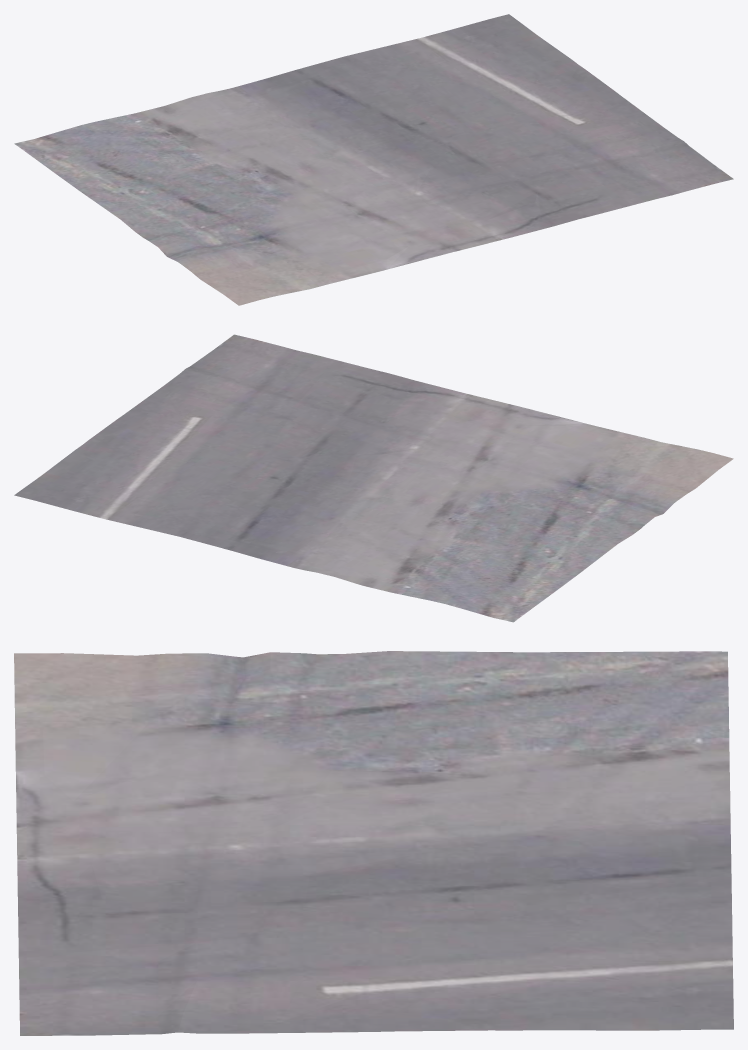
Rendered from Tile_+006_+007_L22_0000010.glb.
The picture shows the model from 3 angles, top to bottom: view 1: azimuth 30°, elevation 25°; view 2: azimuth 150°, elevation 25°; view 3: azimuth 270°, elevation 25°; orthographic projection. The views are drawn at different scales.
Visible parts, largest first — view 1: rtc; view 2: rtc; view 3: rtc.
Part boxes in pixels (x1,y1,x2,y2): rtc: [14, 14, 733, 305]; rtc: [14, 334, 733, 622]; rtc: [14, 651, 733, 1035].
Bounding box in the file's own units: 9.02 × 0.1686 × 7.02.
1 material, 1 textured.
